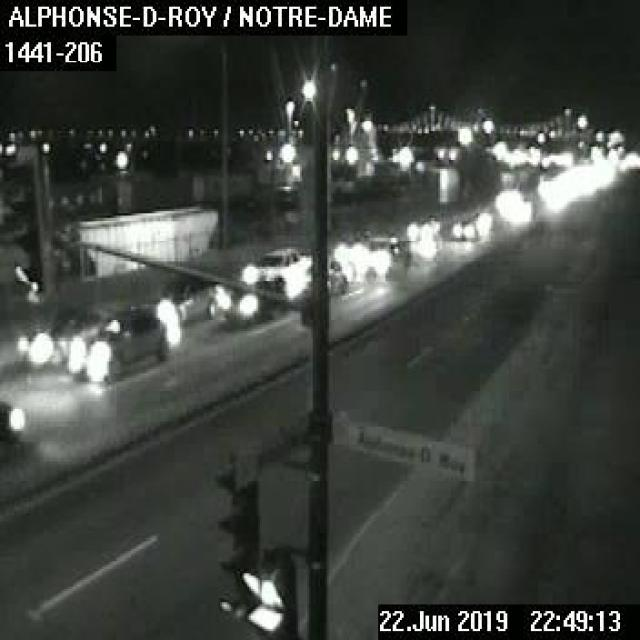vehicle: (64, 308, 168, 376), (18, 307, 108, 364), (212, 278, 288, 328), (241, 245, 309, 295), (148, 278, 216, 322), (358, 234, 408, 275), (451, 212, 485, 239), (0, 402, 16, 457)
